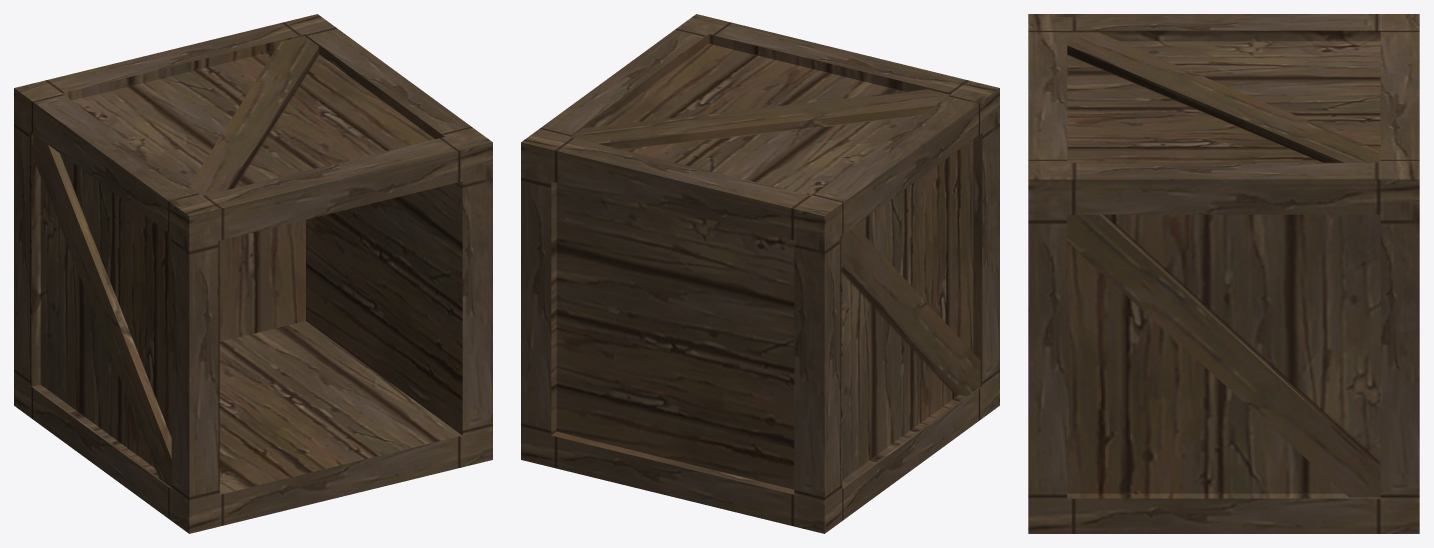
File: crate.glb
3 views of the same model, side by side, from view 1: azimuth 30°, elevation 25°; view 2: azimuth 150°, elevation 25°; view 3: azimuth 270°, elevation 25° (orthographic). The views are drawn at different scales.
Parts seen in each view (by area): view 1: crate4_crate4_0; view 2: crate4_crate4_0; view 3: crate4_crate4_0.
Boxes of the visible parts, left/top/right/bottom form: crate4_crate4_0: left=14, top=14, right=492, bottom=533; crate4_crate4_0: left=521, top=14, right=999, bottom=533; crate4_crate4_0: left=1028, top=14, right=1419, bottom=533.
Bounding box in the file's own units: 50 × 50 × 50.
1 material, 1 textured.
